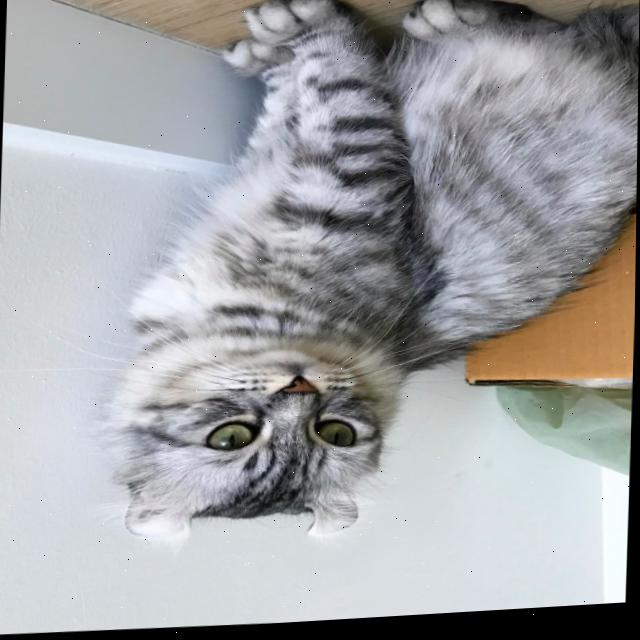American Curl: (84, 0, 640, 561)
